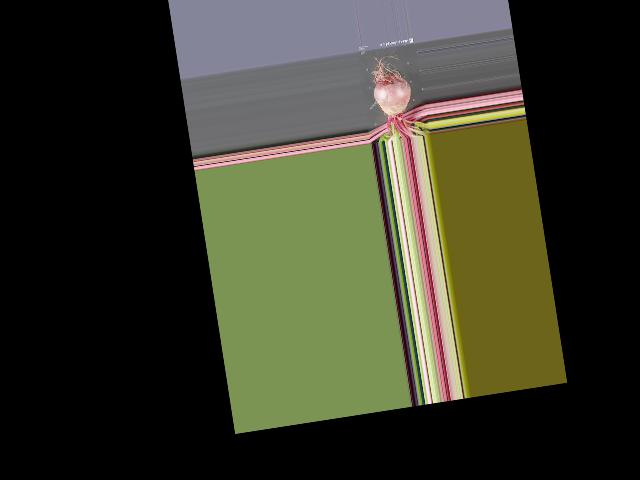beet: (367, 48, 430, 142)
